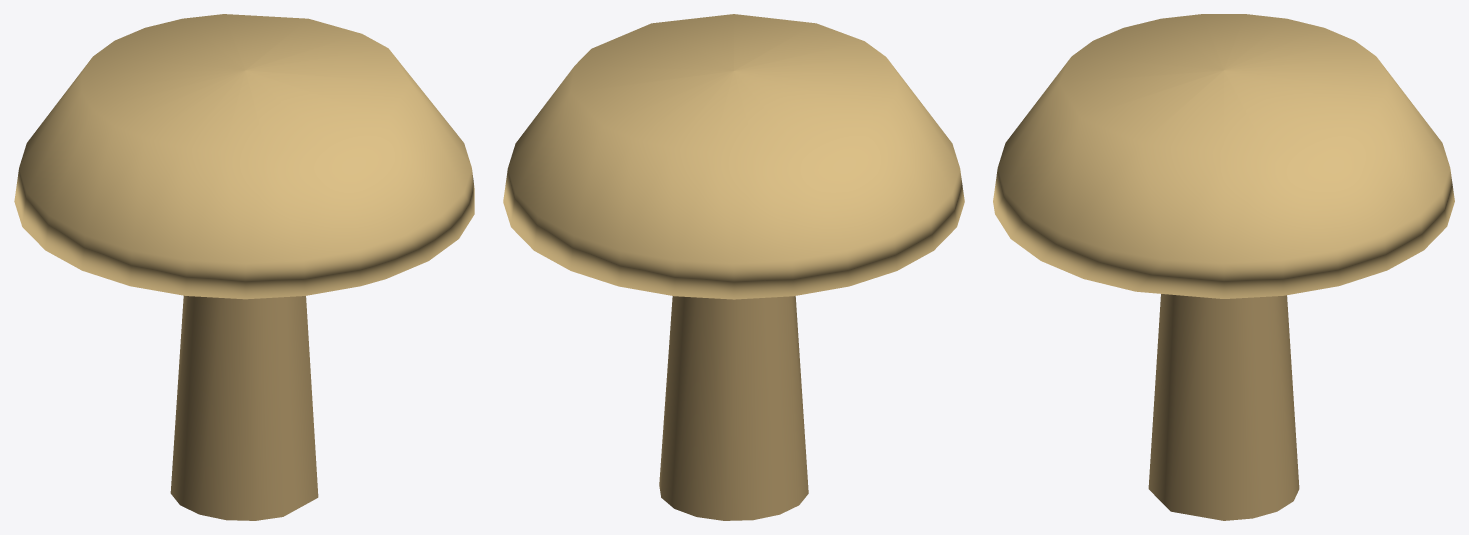
The model's file is lamp-16-1.lod.glb.
The picture shows the model from 3 angles, left to right: view 1: azimuth 30°, elevation 25°; view 2: azimuth 150°, elevation 25°; view 3: azimuth 270°, elevation 25°; orthographic projection.
Visible parts, largest first — view 1: part (×2); view 2: part (×2); view 3: part (×2).
Part boxes in pixels (x1,y1,x2,y2): part (×2): (14, 14, 474, 520); part (×2): (503, 14, 964, 520); part (×2): (993, 14, 1454, 520).
Bounding box in the file's own units: 1 × 1 × 1.
